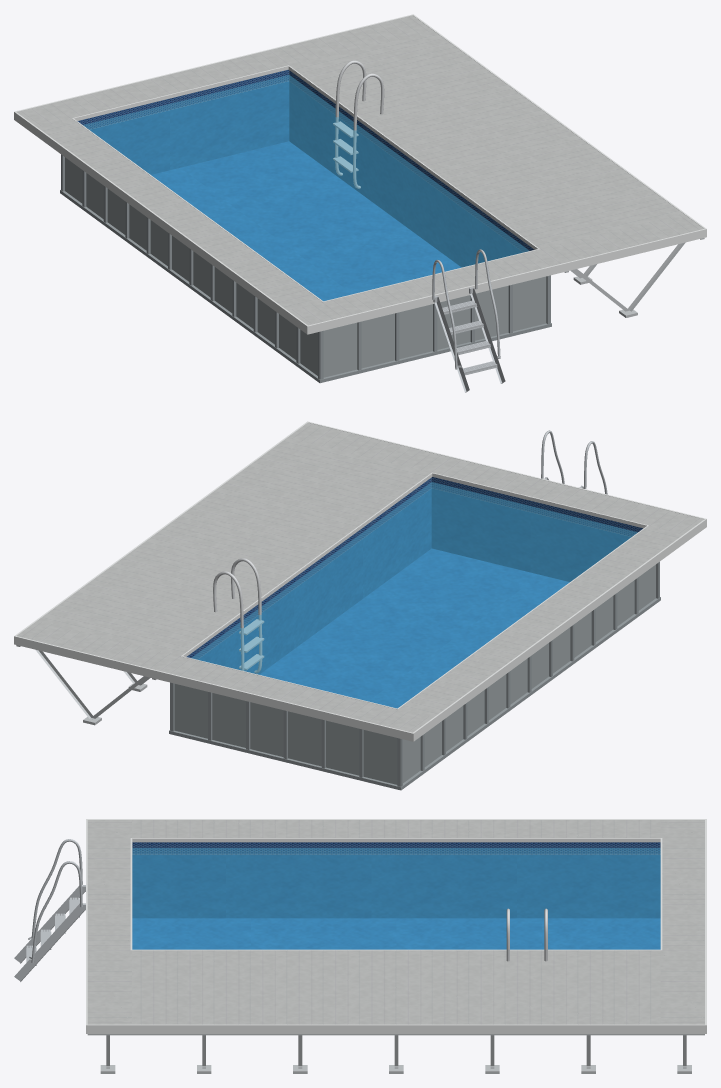
File: kayak-pool-12x24-gray-side-ag-nofence.bb2cead2d2.glb
The picture shows the model from 3 angles, top to bottom: view 1: azimuth 30°, elevation 25°; view 2: azimuth 150°, elevation 25°; view 3: azimuth 270°, elevation 25°; orthographic projection. The views are drawn at different scales.
Visible parts, largest first — view 1: deck, water, liner_wall, liner_floor, wall, fascia, upright, ladder, steel, stud; view 2: deck, water, liner_wall, liner_floor, wall, fascia, upright, steel, stud, ladder; view 3: deck, water, liner_wall, liner_floor, fascia, stud, ladder, steel.
Boxes of the visible parts, left/top/right/bottom form: deck: left=17, top=15, right=703, bottom=325; water: left=83, top=75, right=529, bottom=300; liner_wall: left=77, top=69, right=534, bottom=267; liner_floor: left=151, top=141, right=461, bottom=300; wall: left=65, top=157, right=546, bottom=377; fascia: left=14, top=14, right=706, bottom=334; upright: left=60, top=154, right=551, bottom=383; ladder: left=432, top=249, right=505, bottom=392; steel: left=333, top=60, right=384, bottom=188; stud: left=564, top=238, right=704, bottom=317; deck: left=17, top=422, right=703, bottom=732; water: left=191, top=482, right=637, bottom=708; liner_wall: left=187, top=477, right=642, bottom=674; liner_floor: left=259, top=548, right=569, bottom=708; wall: left=174, top=564, right=655, bottom=784; fascia: left=14, top=421, right=706, bottom=741; upright: left=169, top=562, right=660, bottom=790; steel: left=213, top=558, right=264, bottom=673; stud: left=16, top=645, right=156, bottom=725; ladder: left=541, top=430, right=607, bottom=494; deck: left=87, top=820, right=704, bottom=1024; water: left=132, top=848, right=660, bottom=949; liner_wall: left=132, top=842, right=660, bottom=918; liner_floor: left=132, top=918, right=660, bottom=949; fascia: left=86, top=819, right=706, bottom=1033; stud: left=87, top=1034, right=704, bottom=1073; ladder: left=14, top=839, right=85, bottom=981; steel: left=506, top=908, right=547, bottom=961.
Size of the model in its own units: 6.71 by 1.9 by 9.52.
Materials: 10 (3 with a texture image).
